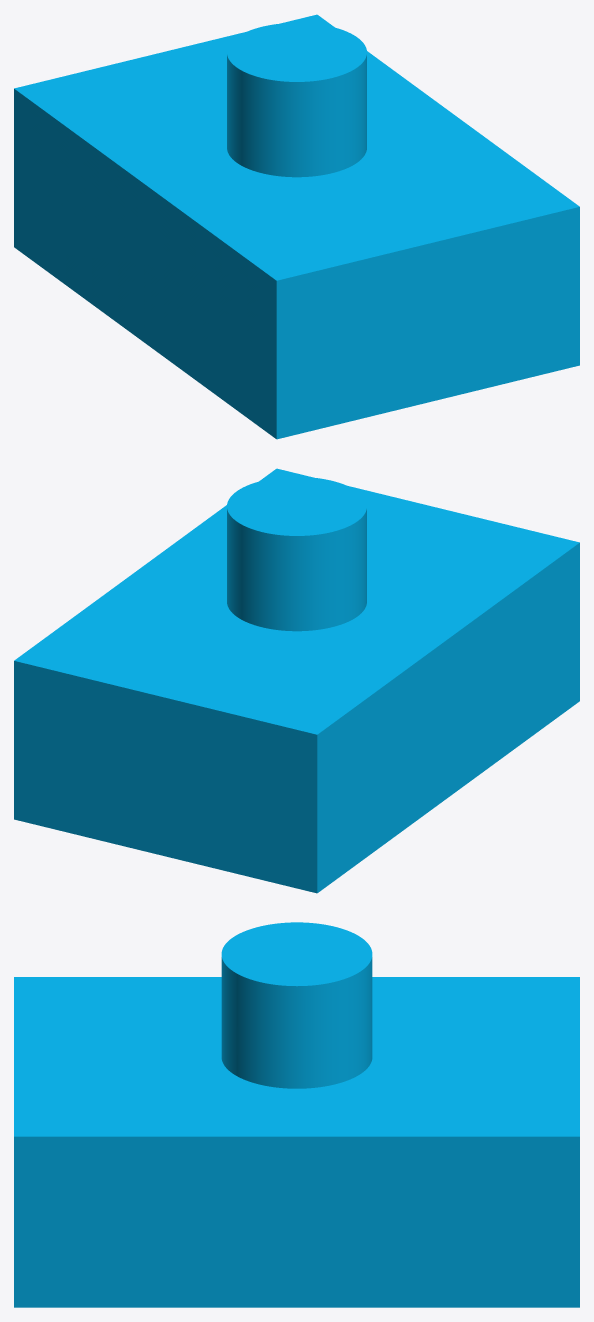
File: special_last_yuzey_cep.gltf
The picture shows the model from 3 angles, top to bottom: view 1: azimuth 30°, elevation 25°; view 2: azimuth 150°, elevation 25°; view 3: azimuth 270°, elevation 25°; orthographic projection. The views are drawn at different scales.
Visible parts, largest first — view 1: Gövde; view 2: Gövde; view 3: Gövde.
Boxes of the visible parts, x1,y1,x2,y2 form: Gövde: [14, 14, 579, 439]; Gövde: [14, 468, 579, 893]; Gövde: [14, 922, 579, 1307].
Size of the model in its own units: 0.01 by 0.008 by 0.015.
